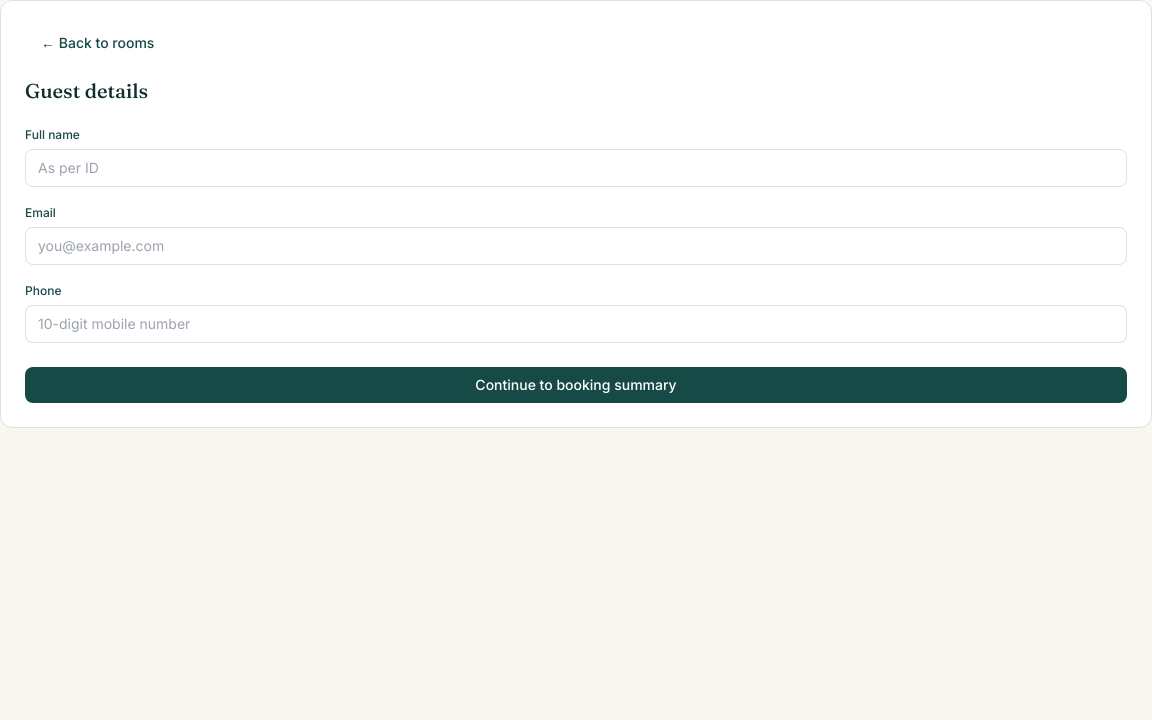
Test case: GuestDetails shows errors for an empty form
This screenshot has width=1152, height=720.
Click the button "Continue to booking summary" at (576, 385), box [25, 367, 1127, 403]
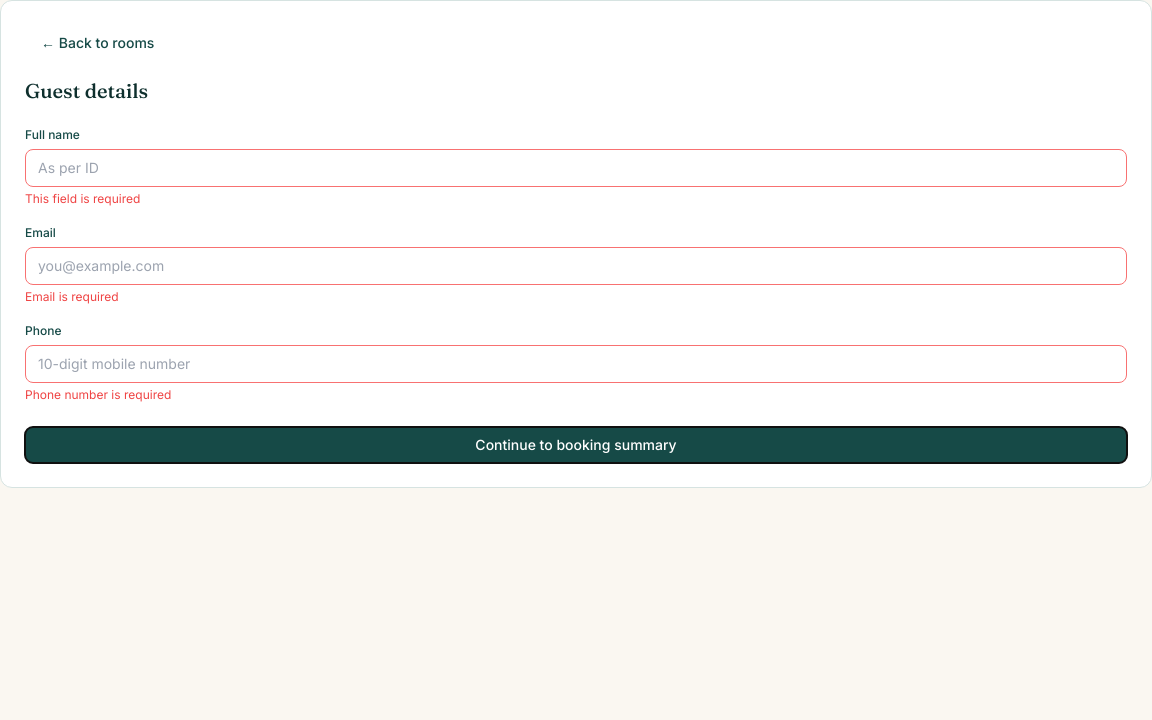
Check: the text "Email is required" is shown, box [25, 289, 119, 304]
